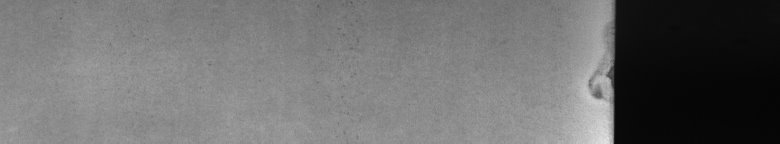hb: (582, 60, 604, 107)
